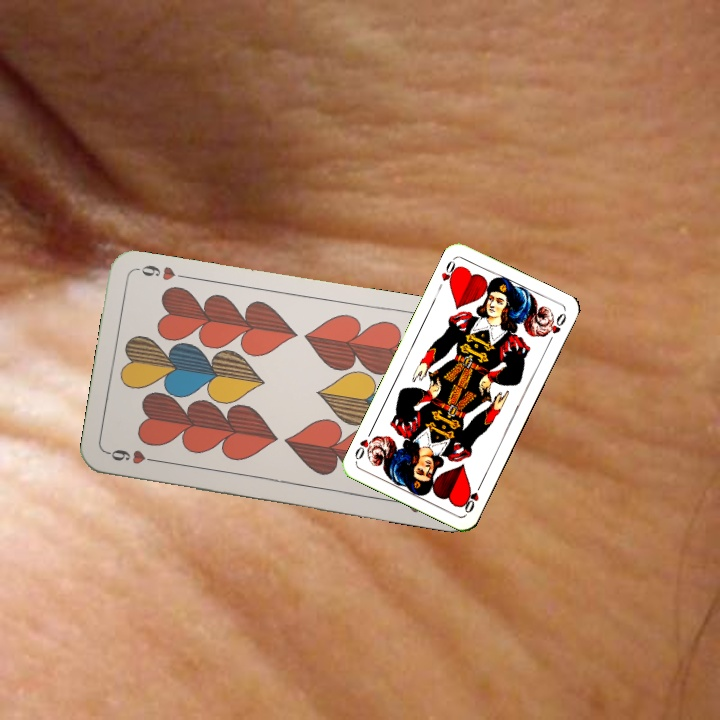H9: (104, 445, 163, 467)
HO: (458, 479, 485, 516), (437, 255, 462, 289)
